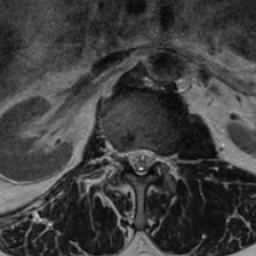CCS_normal: (134, 136, 144, 183)
LFS_stenosis: (156, 143, 166, 173)
LLS_normal: (144, 139, 156, 171)
RFS_normal: (116, 139, 126, 170)
RLS_normal: (124, 140, 134, 170)
